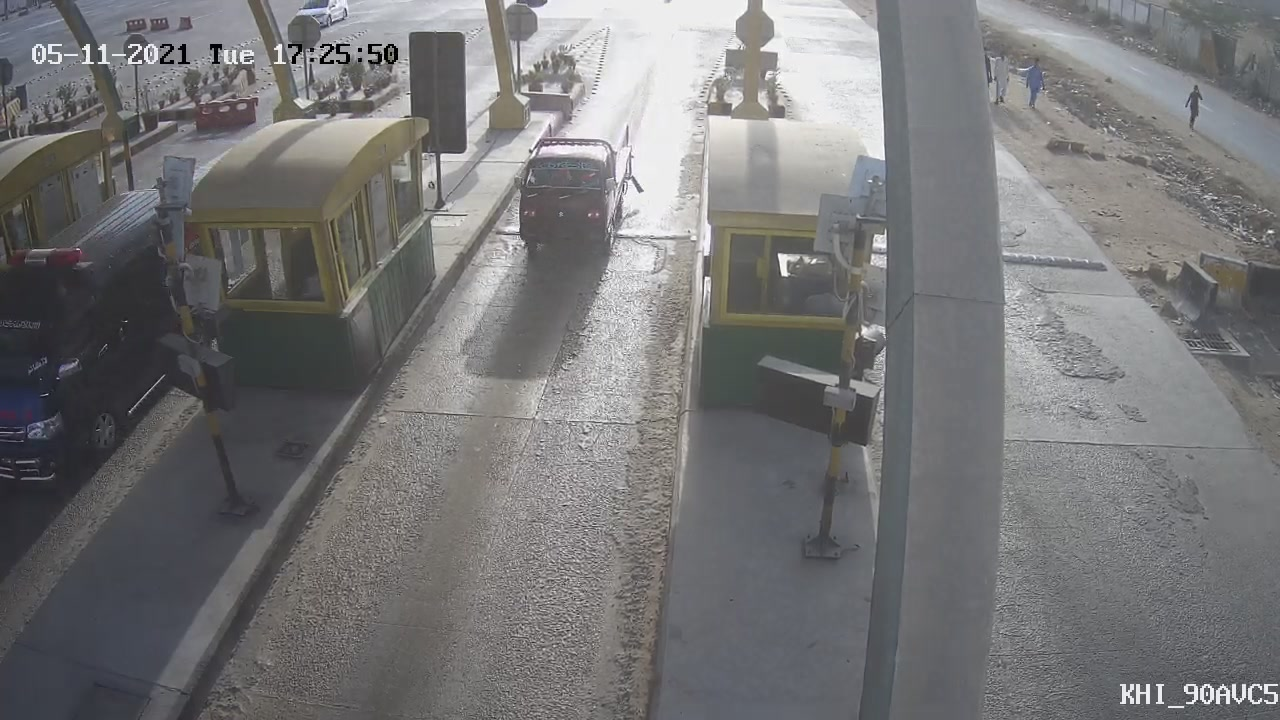F1: (483, 108, 664, 284)
